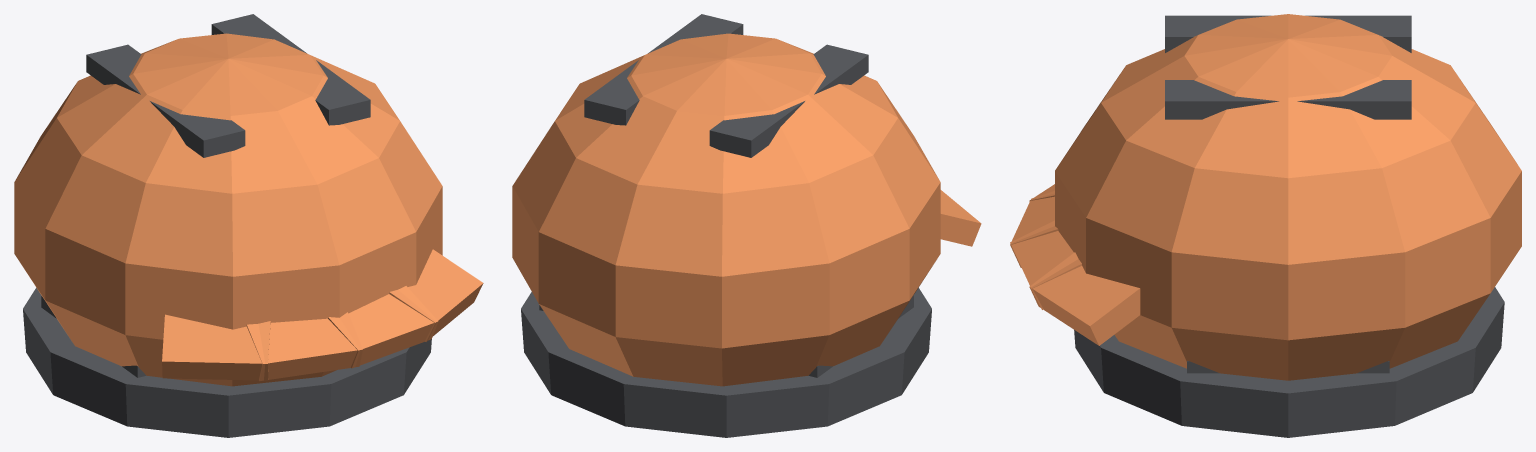
Rendered from skate-park-and-street-sports-skate-helmet-125e46fd__33536.glb.
The picture shows the model from 3 angles, left to right: view 1: azimuth 30°, elevation 25°; view 2: azimuth 150°, elevation 25°; view 3: azimuth 270°, elevation 25°; orthographic projection. The views are drawn at different scales.
Visible parts, largest first — view 1: skate-helmet-sunset, skate-helmet-charcoal; view 2: skate-helmet-sunset, skate-helmet-charcoal; view 3: skate-helmet-sunset, skate-helmet-charcoal.
Part boxes in pixels (x1,y1,x2,y2): skate-helmet-sunset: (14,33,483,386); skate-helmet-charcoal: (23,14,431,437); skate-helmet-sunset: (512,33,981,386); skate-helmet-charcoal: (521,14,931,437); skate-helmet-sunset: (1010,14,1521,380); skate-helmet-charcoal: (1074,15,1504,437).
Bounding box in the file's own units: 0.2632 × 0.2214 × 0.3029.
